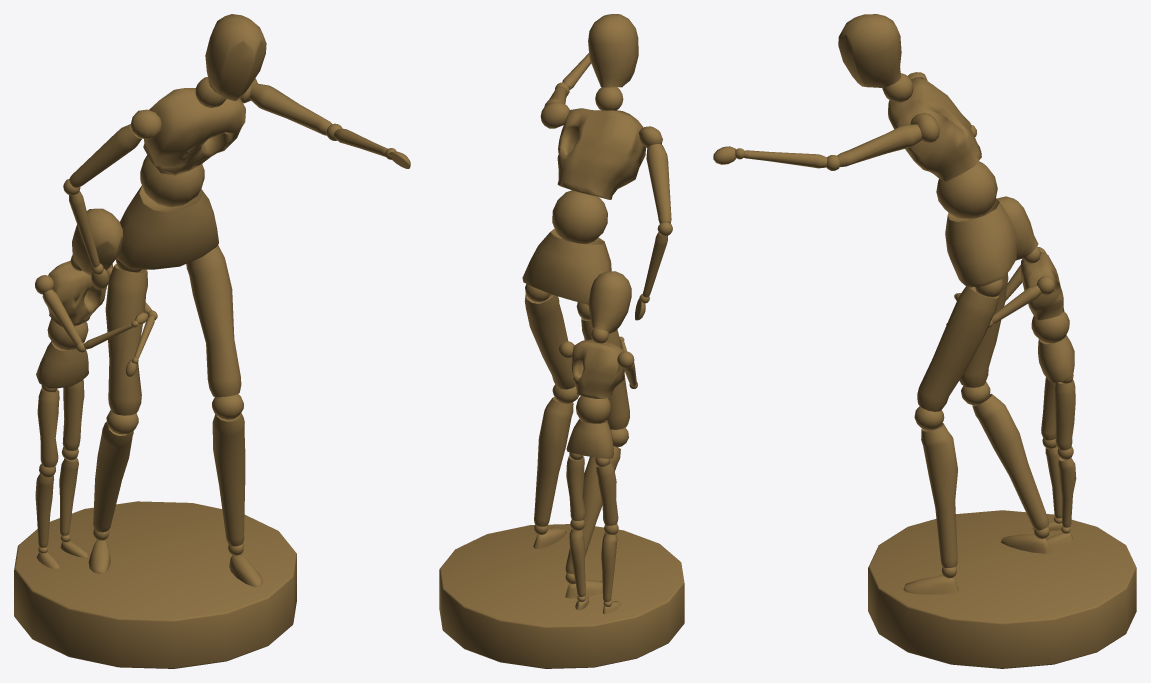
File: maniquíChikito_pose_04.fbx
3 views of the same model, side by side, from view 1: azimuth 30°, elevation 25°; view 2: azimuth 150°, elevation 25°; view 3: azimuth 270°, elevation 25° (orthographic). The views are drawn at different scales.
Visible parts, largest first — view 1: dummy_obj.003; view 2: dummy_obj.003; view 3: dummy_obj.003.
Boxes of the visible parts, bbox=[...] form: dummy_obj.003: bbox=[14, 14, 410, 668]; dummy_obj.003: bbox=[439, 14, 684, 668]; dummy_obj.003: bbox=[713, 14, 1136, 668].
Bounding box in the file's own units: 71.62 × 177 × 113.
